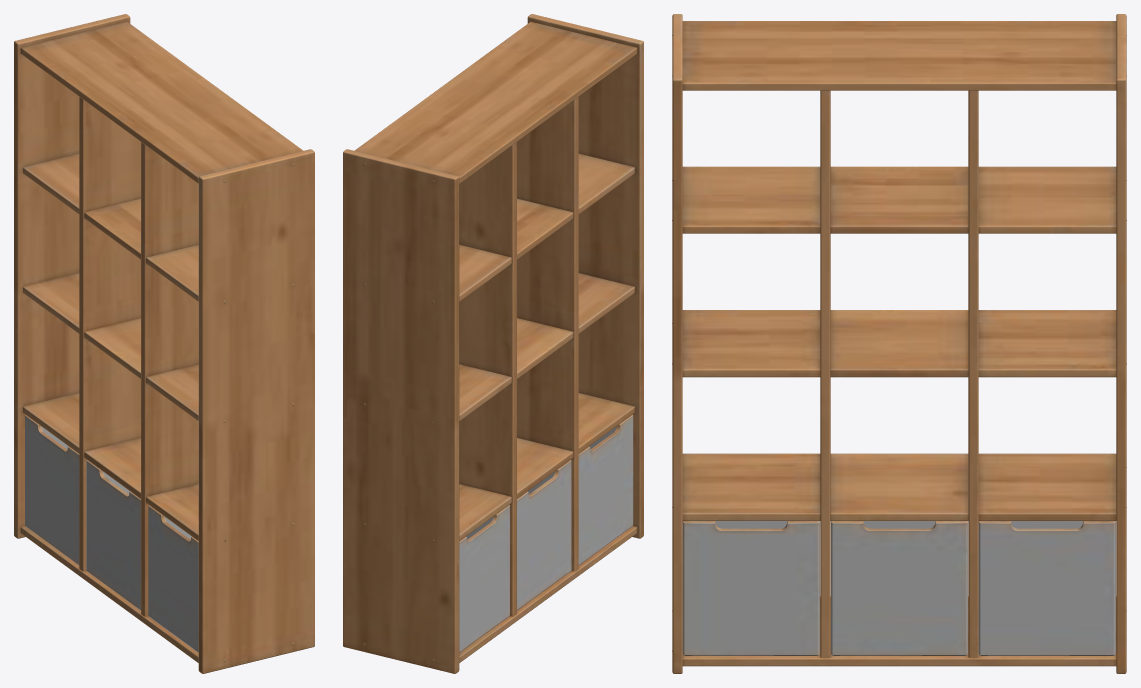
3 renders of one model, left to right at view 1: azimuth 30°, elevation 25°; view 2: azimuth 150°, elevation 25°; view 3: azimuth 270°, elevation 25°, orthographic. The views are drawn at different scales.
Visible parts, largest first — view 1: wooden_display_shelves_01, wooden_display_shelves_01_drawer_01, wooden_display_shelves_01_drawer_02, wooden_display_shelves_01_drawer_03; view 2: wooden_display_shelves_01, wooden_display_shelves_01_drawer_03, wooden_display_shelves_01_drawer_02, wooden_display_shelves_01_drawer_01; view 3: wooden_display_shelves_01, wooden_display_shelves_01_drawer_03, wooden_display_shelves_01_drawer_01, wooden_display_shelves_01_drawer_02.
Boxes of the visible parts, bbox=[...] form: wooden_display_shelves_01: bbox=[14, 14, 314, 673]; wooden_display_shelves_01_drawer_01: bbox=[25, 415, 79, 565]; wooden_display_shelves_01_drawer_02: bbox=[86, 460, 140, 610]; wooden_display_shelves_01_drawer_03: bbox=[148, 505, 198, 652]; wooden_display_shelves_01: bbox=[343, 14, 643, 673]; wooden_display_shelves_01_drawer_03: bbox=[578, 415, 633, 565]; wooden_display_shelves_01_drawer_02: bbox=[517, 460, 571, 610]; wooden_display_shelves_01_drawer_01: bbox=[459, 505, 509, 652]; wooden_display_shelves_01: bbox=[672, 14, 1126, 673]; wooden_display_shelves_01_drawer_03: bbox=[682, 521, 819, 655]; wooden_display_shelves_01_drawer_01: bbox=[978, 521, 1115, 655]; wooden_display_shelves_01_drawer_02: bbox=[831, 521, 967, 655].
Size of the model in its own units: 0.3715 by 1.56 by 1.08.
1 material, 1 textured.
